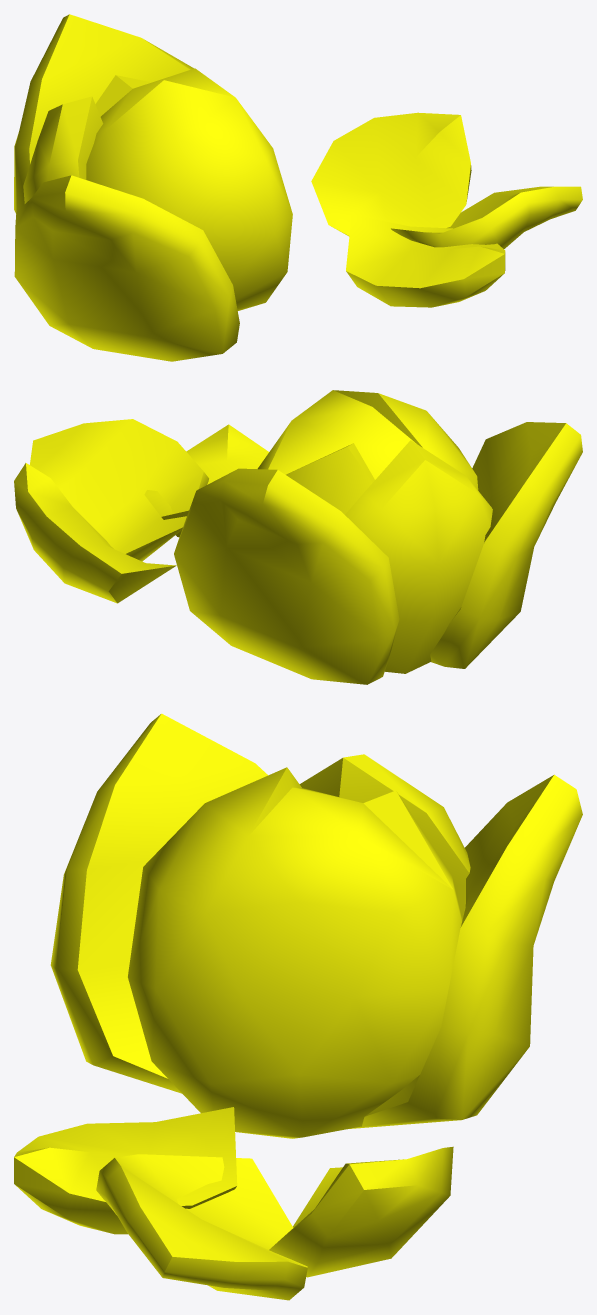
Rendered from food_ingredient_lettuce_chopped.gltf.
3 views of the same model, one above another, from view 1: azimuth 30°, elevation 25°; view 2: azimuth 150°, elevation 25°; view 3: azimuth 270°, elevation 25° (orthographic). The views are drawn at different scales.
Parts seen in each view (by area): view 1: food_ingredient_lettuce_chopped; view 2: food_ingredient_lettuce_chopped; view 3: food_ingredient_lettuce_chopped.
Part boxes in pixels (<box>): food_ingredient_lettuce_chopped: <box>14,14,582,361</box>; food_ingredient_lettuce_chopped: <box>14,390,582,684</box>; food_ingredient_lettuce_chopped: <box>14,713,582,1300</box>.
Bounding box in the file's own units: 1.8 × 0.8088 × 1.21.
Materials: 1 (1 with a texture image).
